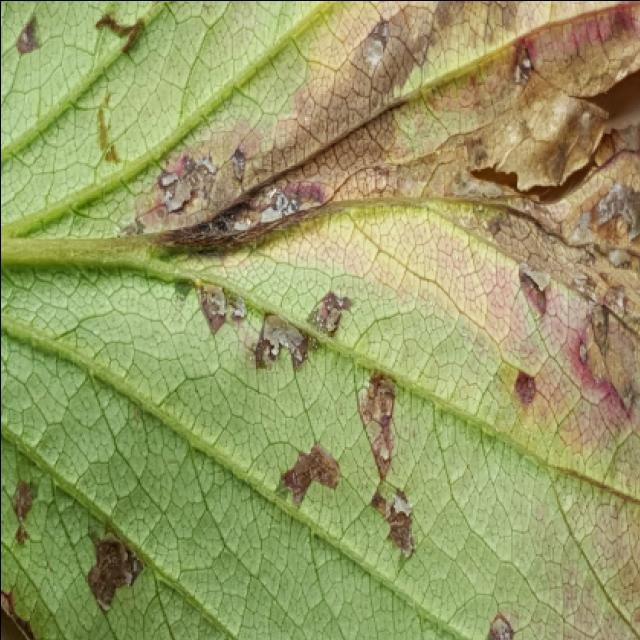Angular Leafspot: (2, 2, 640, 640)
